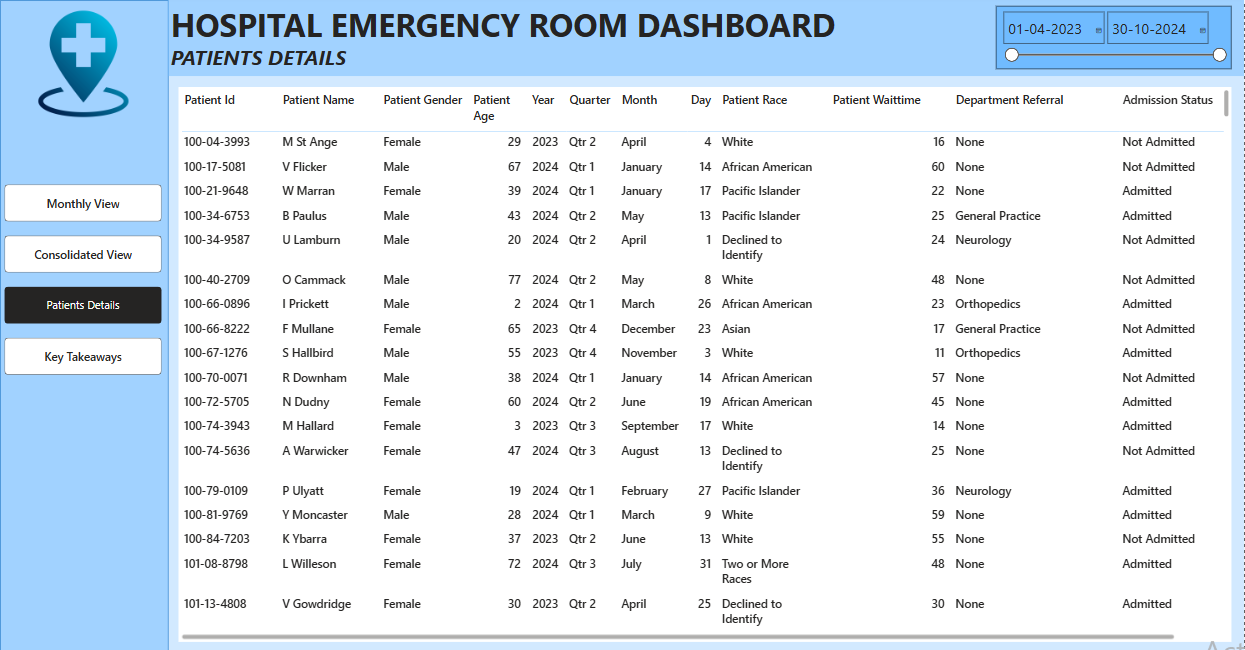

The dashboard page shown, as its layout file describes it:
{"tool":"powerbi","page":{"name":"Patients Details","canvas":[2300,1200],"ordinal":2},"visuals":[{"type":"shape","box":[10.2,0,310,1399],"z":0},{"type":"shape","box":[318.9,0,1980.9,140],"z":1000},{"type":"textbox","box":[318.9,0,1298,99.8],"z":2000},{"type":"textbox","box":[320.3,74.5,378.2,63.5],"z":3000},{"type":"slicer","fields":{"Values":["Date Table.Date"]},"box":[1844.2,11,433.4,116],"z":4000},{"type":"image","box":[46.9,13.8,234.7,207.1],"z":5000},{"type":"tableEx","fields":{"Values":["Hospital ER_Data.Patient Id","Hospital ER_Data.Patient Full Name","Hospital ER_Data.Patient Gender","Sum(Hospital ER_Data.Patient Age)","Hospital ER_Data.Patient Admission Date.Variation.Date Hierarchy.Year","Hospital ER_Data.Patient Admission Date.Variation.Date Hierarchy.Quarter","Hospital ER_Data.Patient Admission Date.Variation.Date Hierarchy.Month","Hospital ER_Data.Patient Admission Date.Variation.Date Hierarchy.Day","Hospital ER_Data.Patient Race","Sum(Hospital ER_Data.Patient Waittime)","Hospital ER_Data.Department Referral","Hospital ER_Data.Admission Status"]},"box":[339.6,160.1,1938.1,1021.5],"z":6000},{"type":"pageNavigator","box":[19.3,339.6,289.9,350.6],"z":7000}]}

Visuals, with their boxes in screenshot pixels (x1, y1, x2, y2), scaled from the page's 2300x1200 canvas onto the 1245x650 screenshot:
shape: detection(6, 0, 173, 649)
shape: detection(173, 0, 1244, 76)
textbox: detection(173, 0, 875, 54)
textbox: detection(173, 40, 378, 75)
slicer - Date Table.Date: detection(998, 6, 1233, 69)
image: detection(25, 7, 152, 120)
tableEx - Hospital ER_Data.Patient Id x Hospital ER_Data.Patient Full Name: detection(184, 87, 1233, 640)
pageNavigator: detection(10, 184, 167, 374)
